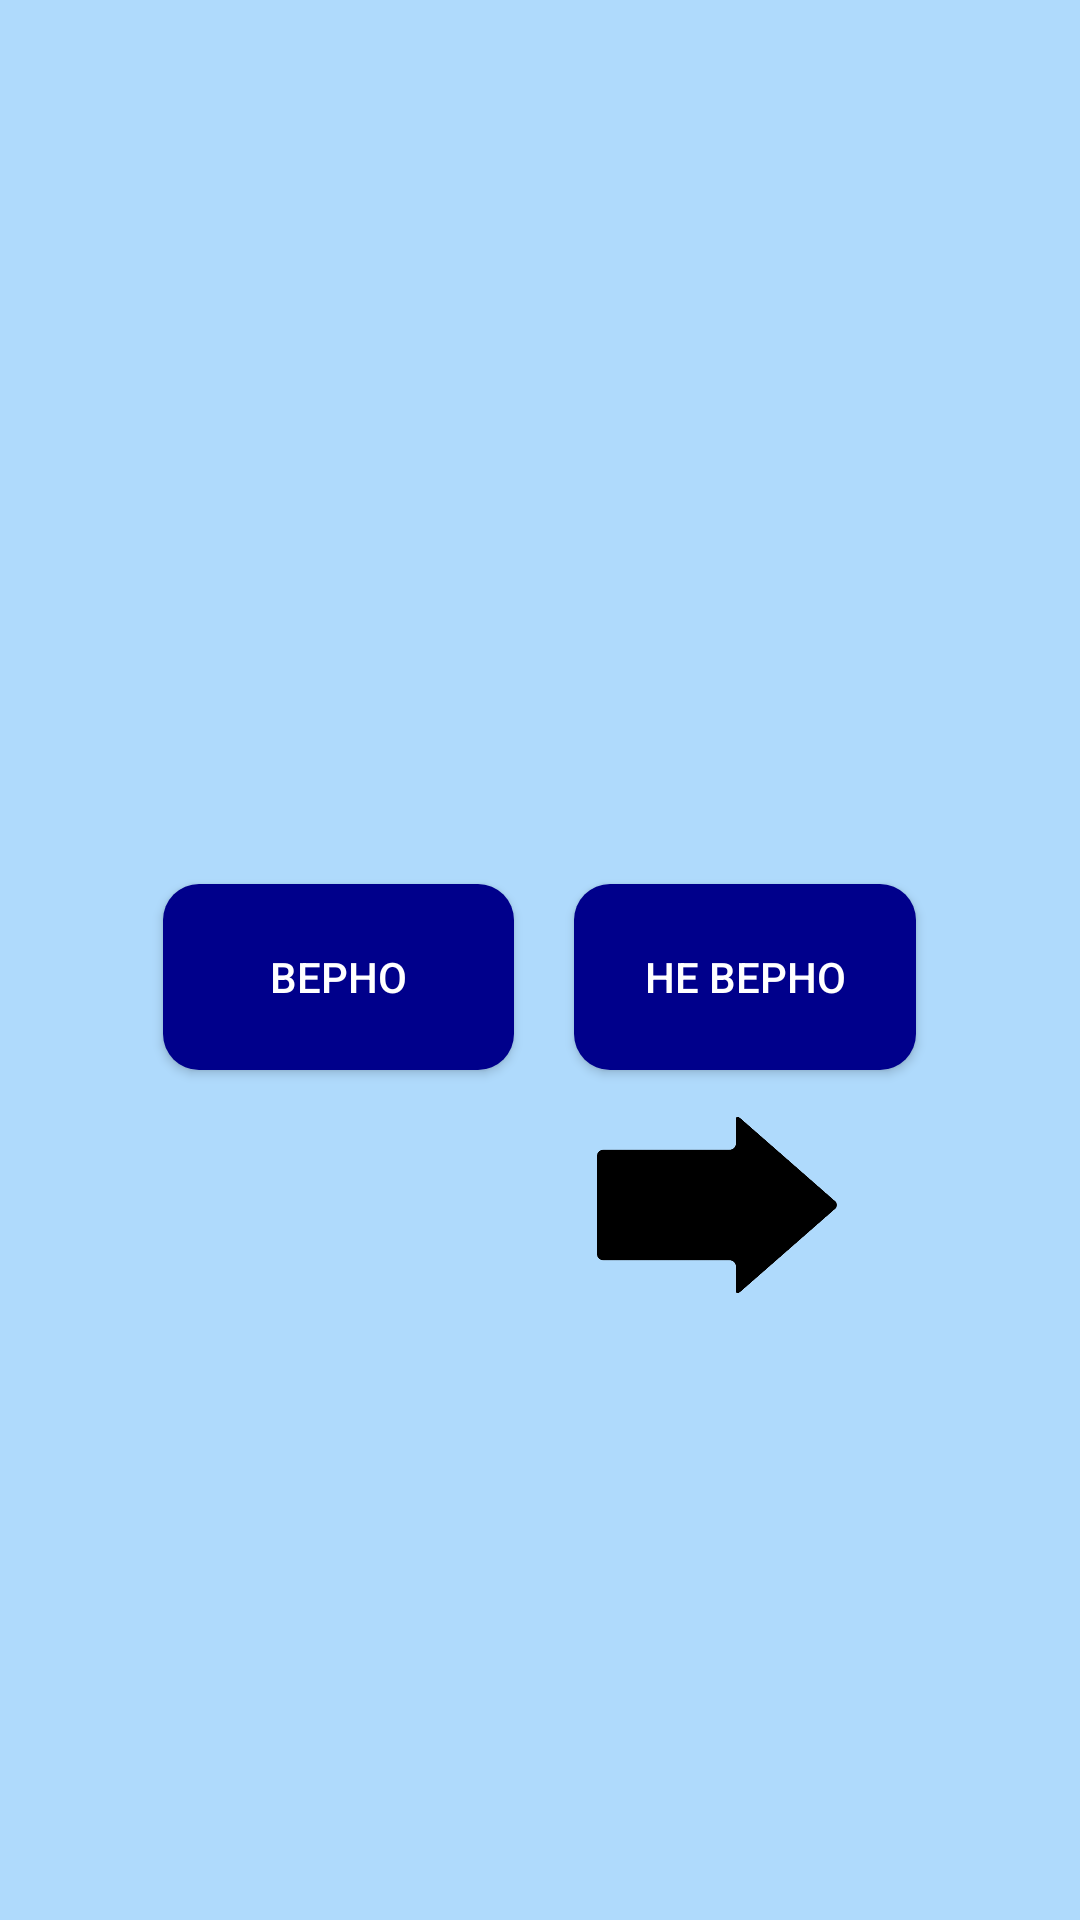

Named icons in this screenshot (1080 × 1920) and their centers, (x=x, y=y):
arrow right: (x=717, y=1205)
